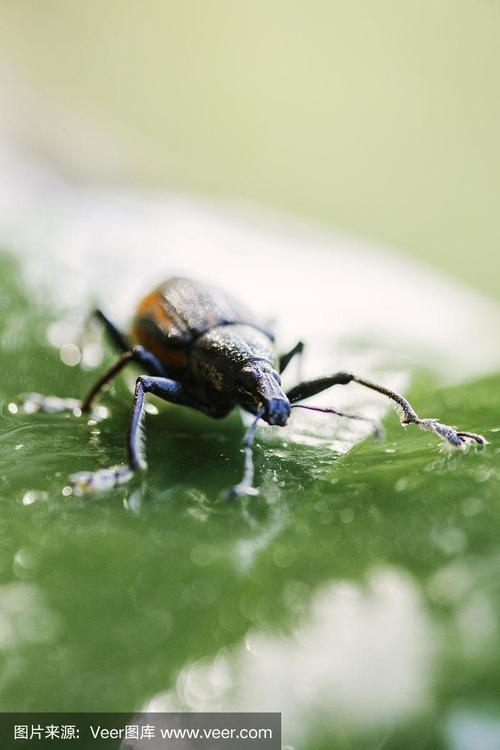Curculionidae: (16, 271, 492, 502)
